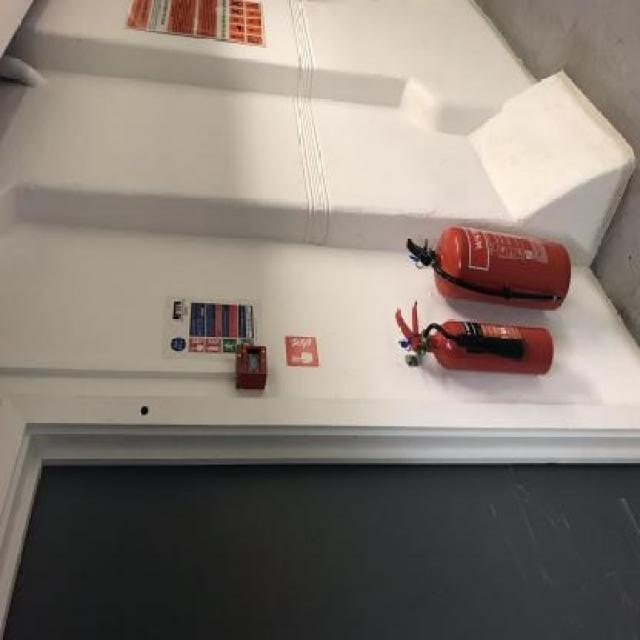fire extinguisher: (405, 226, 571, 312), (394, 301, 554, 375)
